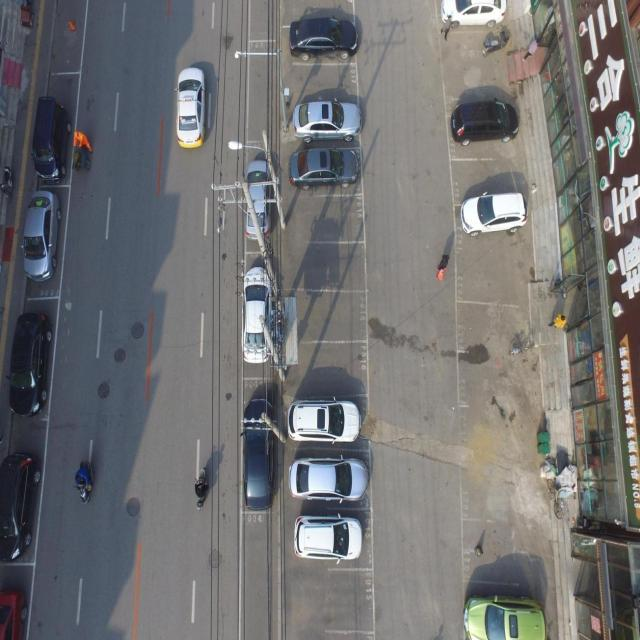p3rson: (72, 130, 93, 153), (522, 37, 540, 61), (439, 14, 452, 41), (547, 312, 566, 328), (436, 253, 449, 272), (435, 265, 446, 281)
